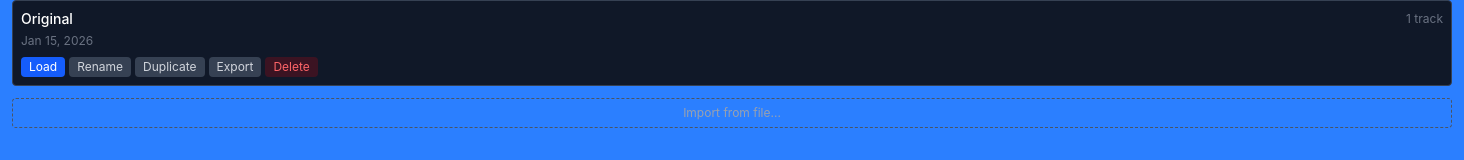
Test: ConfigList › rename flow › shows rename input when Rename is clicked
What coordinates should you click on to do the following:
click the button with test id "config-rename-btn"
I would click on:
 (100, 67)
Its box is [69,57,131,77].
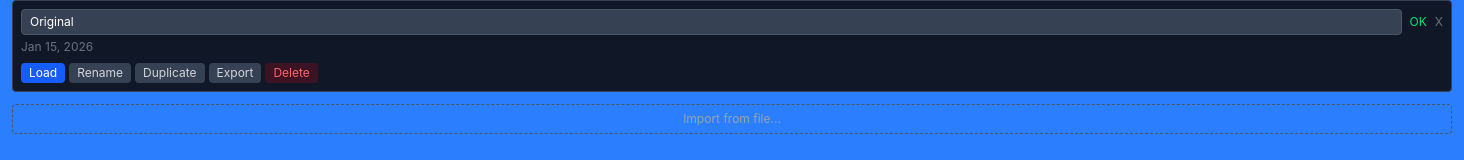
expect the field with test id "config-rename-input" is shown: met, box [21,9,1402,35]
